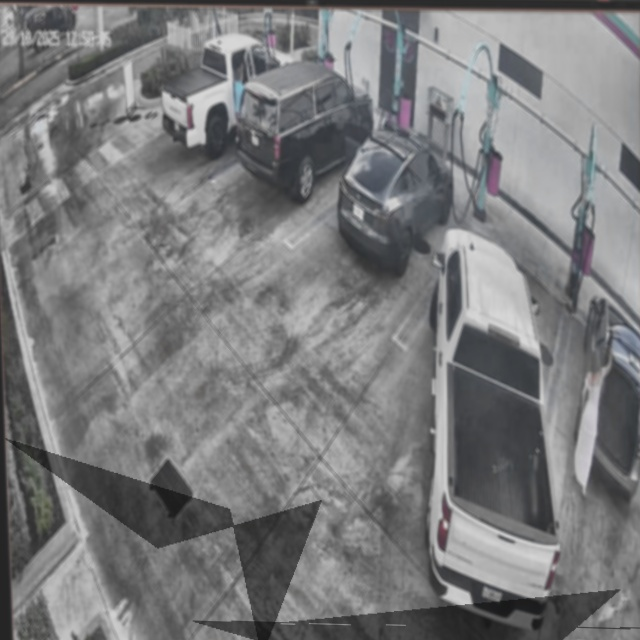Car: (422, 226, 562, 635), (237, 61, 374, 196), (337, 126, 455, 273)
